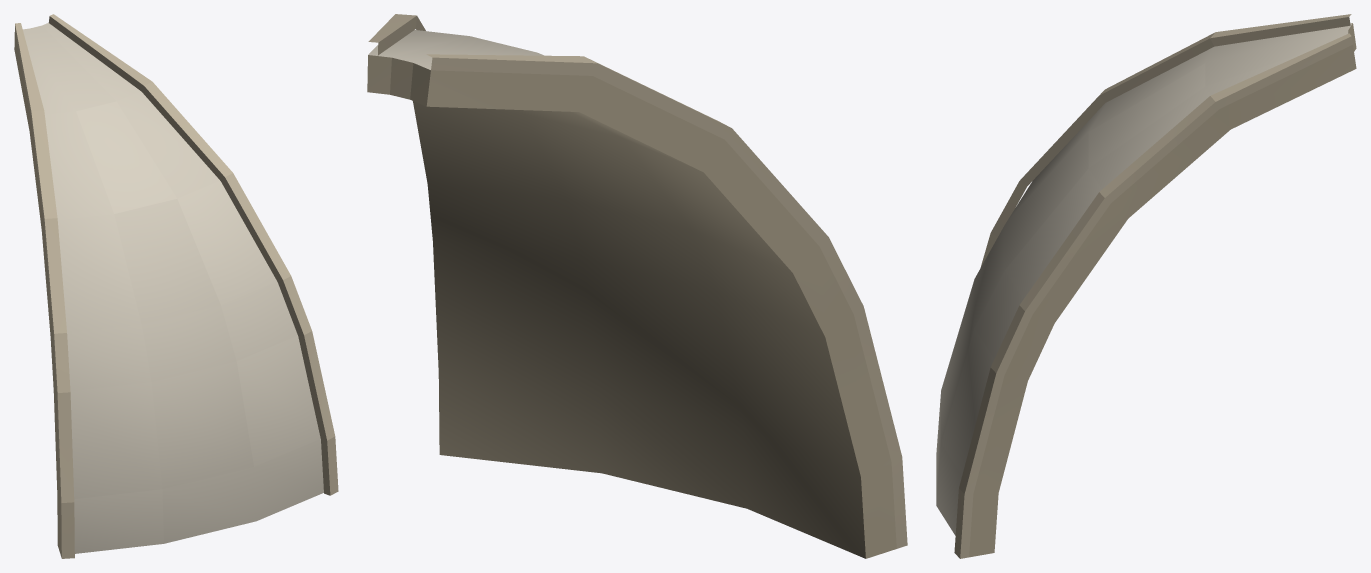
Rendered from dome.panel_8.plaster.glb.
The picture shows the model from 3 angles, left to right: view 1: azimuth 30°, elevation 25°; view 2: azimuth 150°, elevation 25°; view 3: azimuth 270°, elevation 25°; orthographic projection. The views are drawn at different scales.
Parts seen in each view (by area): view 1: dome_panel_8_plaster; view 2: dome_panel_8_plaster; view 3: dome_panel_8_plaster.
Boxes of the visible parts, bbox=[...] form: dome_panel_8_plaster: bbox=[14, 14, 338, 558]; dome_panel_8_plaster: bbox=[367, 14, 907, 558]; dome_panel_8_plaster: bbox=[936, 14, 1356, 558].
Size of what is drawn, in the model's own units: 2.73 by 3.63 by 3.05.
